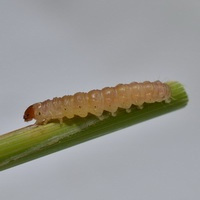insect: (23, 81, 170, 124)
